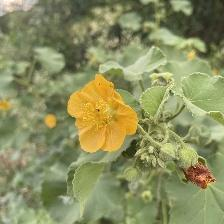indian mallow: (68, 74, 142, 156)
